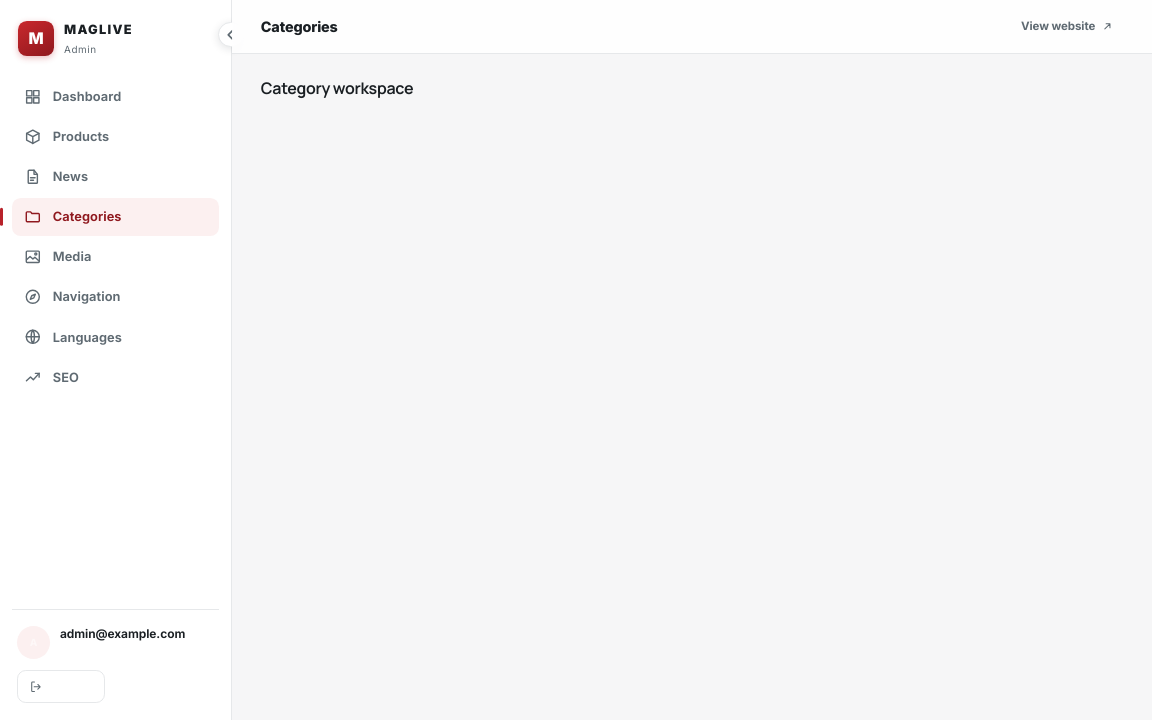
Test: protected administrator shell › collapses the dashboard navigation and remembers the preference
Check: the text "admin@example.com" is shown, box [60,626,185,640]
Click the button named "Collapse dashboard navigation".
click(231, 34)  # box [218,22,244,47]
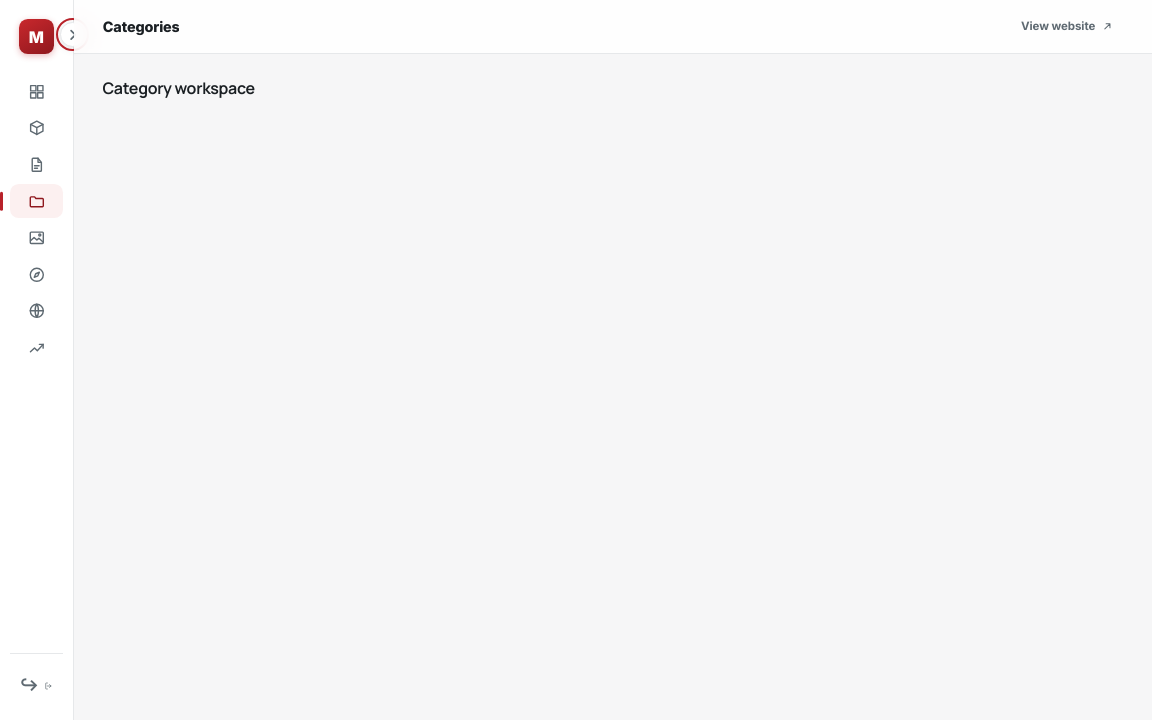
Check: the button named "Expand dashboard navigation" is collapsed, box [60,22,85,47]
